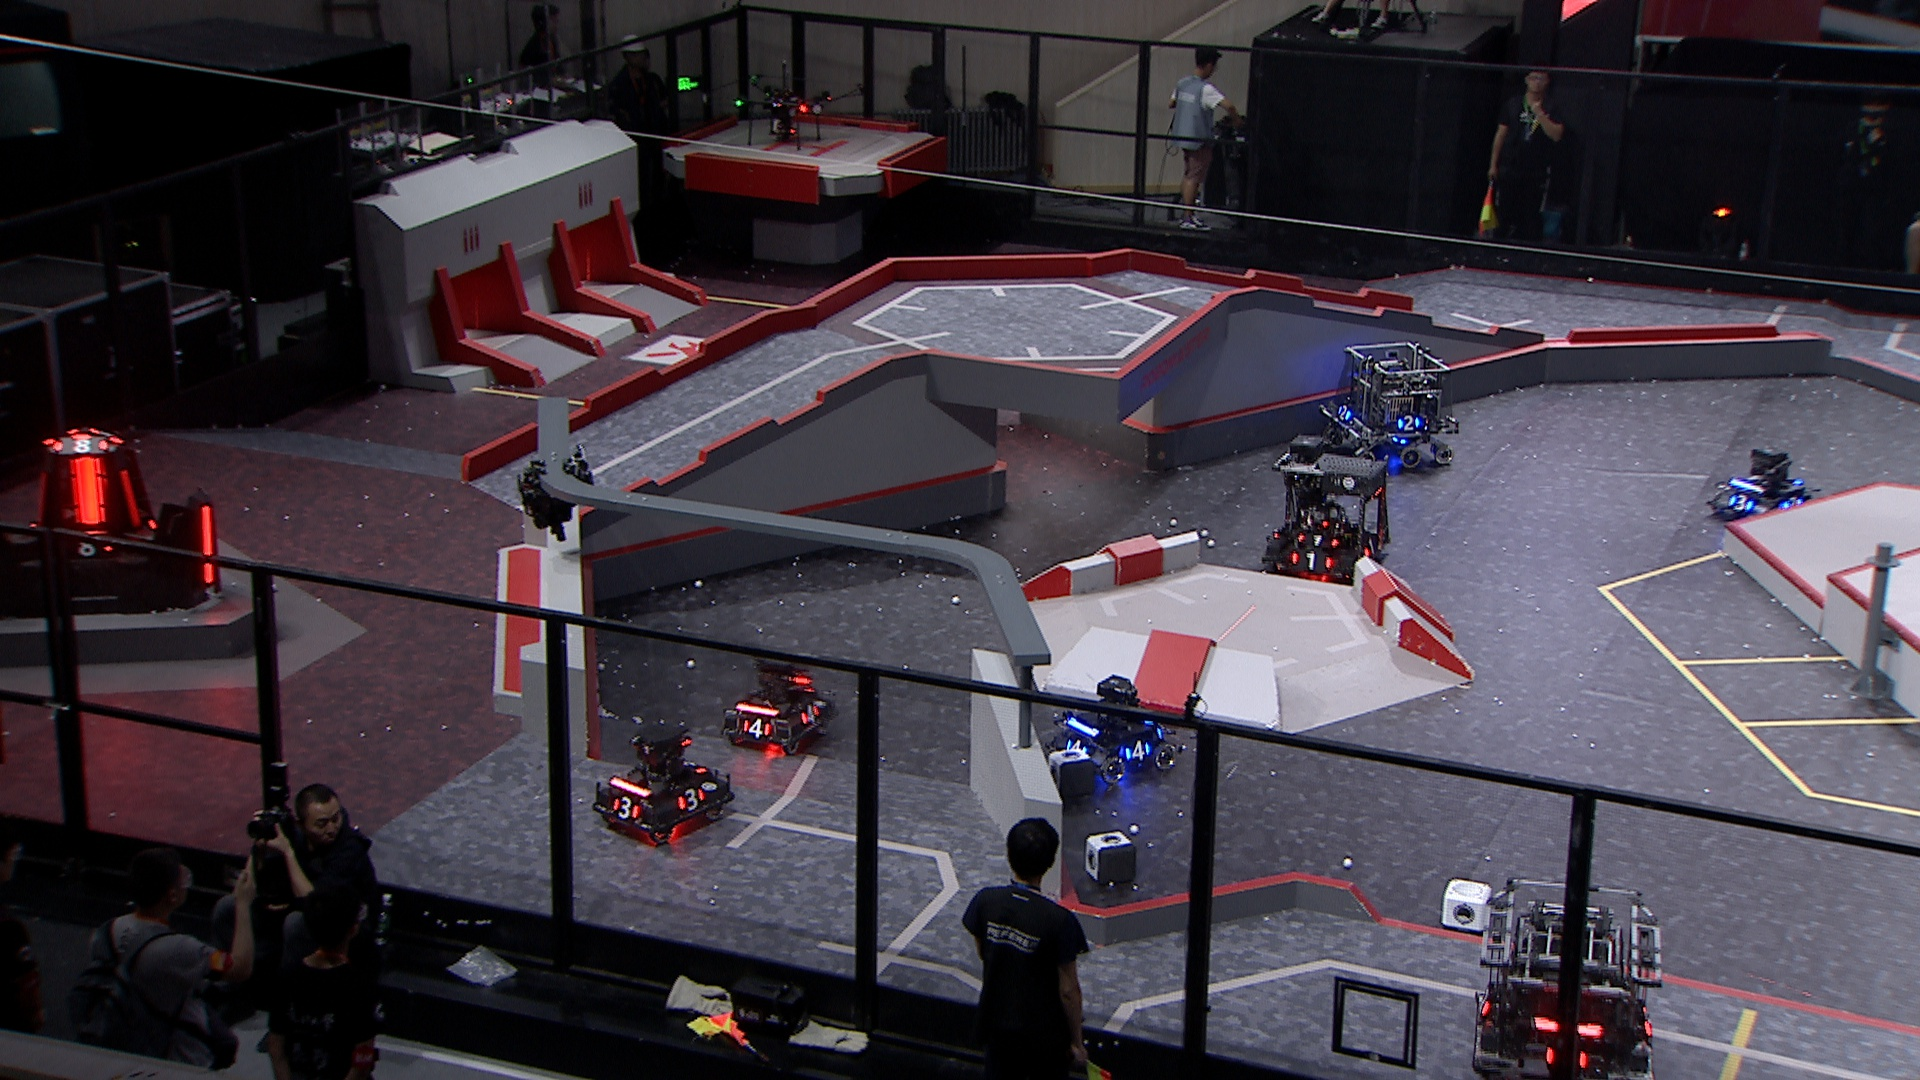armor: (69, 454, 109, 527), (117, 467, 146, 531), (200, 505, 218, 585), (30, 471, 50, 534), (49, 436, 113, 454), (1290, 553, 1338, 572), (612, 796, 644, 825), (71, 541, 116, 560), (674, 787, 705, 815), (740, 717, 773, 742), (1120, 740, 1154, 764), (1291, 531, 1338, 547), (1727, 491, 1756, 512), (679, 757, 709, 777), (798, 703, 822, 727), (1476, 986, 1494, 1015), (1063, 737, 1092, 756), (1394, 413, 1420, 433), (1776, 495, 1807, 508), (1362, 537, 1381, 556), (1335, 404, 1352, 423)
car: (1468, 874, 1669, 1080), (1258, 433, 1399, 582), (1319, 339, 1465, 472), (588, 723, 744, 844), (1044, 674, 1182, 789), (717, 651, 841, 754), (1712, 444, 1821, 529)
watcher: (514, 443, 595, 541)
